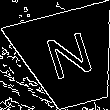N_S: (40, 29, 98, 89)
